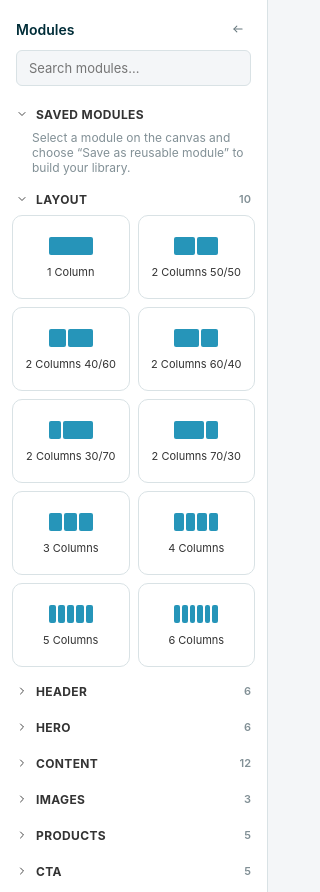
Scenario: ModulePanel — compact accordion browsing › opening a category collapses the previously open one (only one open at a time)
Click the button "Header 6" at {"x": 134, "y": 691}, box [12,675,255,707]
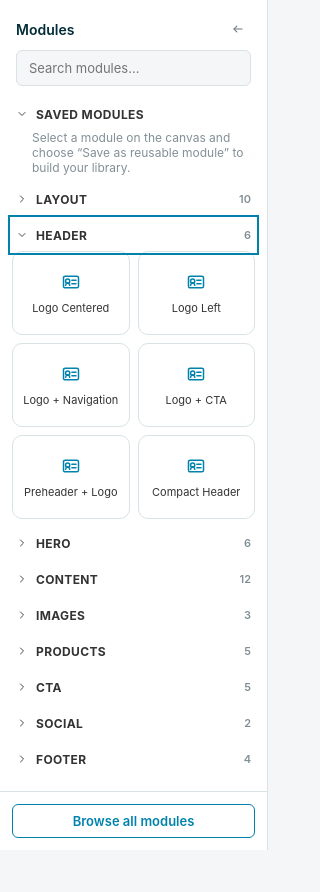
Expected: the button "Header 6" is expanded, [12,219,255,251]
Click the button "Hero 6" at {"x": 134, "y": 543}, box [12,527,255,559]
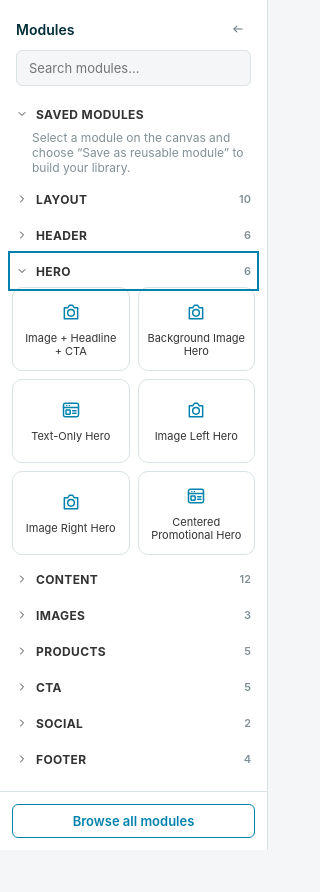
Expected: the button "Hero 6" is expanded, [12,255,255,287]
